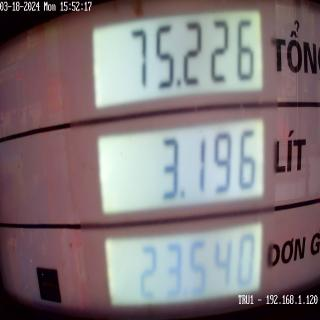screen: (81, 0, 270, 319)
